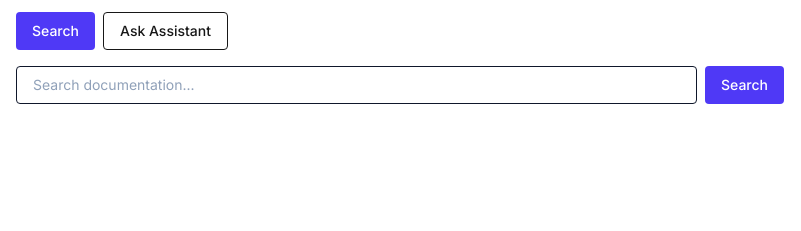
it: SearchPage — formatted result cards (US1) › falls back to 'Untitled document' when the title is missing (FR-008)
Type "query" into the field with placeholder "Search documentation..." at (356, 85), box [16,66,697,104]
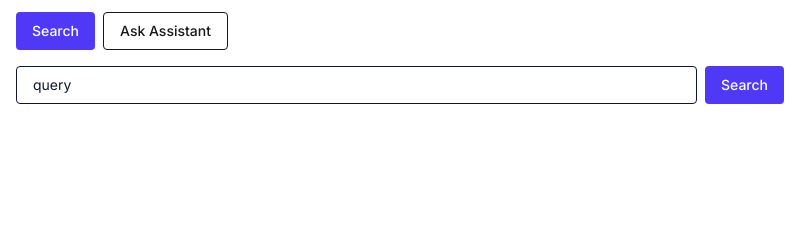
Press Enter in the field with placeholder "Search documentation...", box [16,66,697,104]
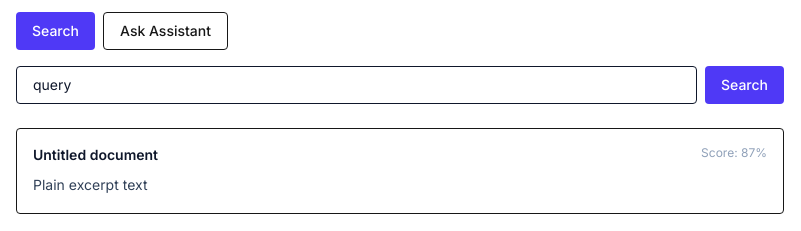
Now the text "Untitled document" is shown, box [33,145,158,165]
